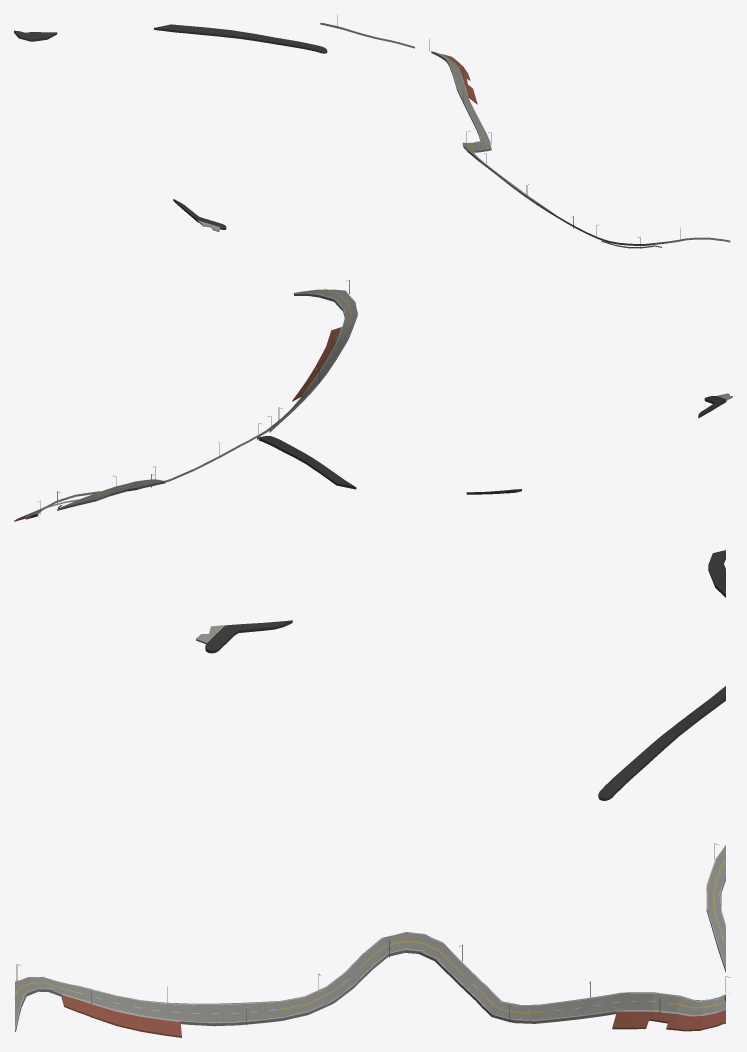
3 renders of one model, top to bottom at view 1: azimuth 30°, elevation 25°; view 2: azimuth 150°, elevation 25°; view 3: azimuth 270°, elevation 25°, orthographic. The views are drawn at different scales.
Bounding box in the file's own units: 295 × 102 × 295.
